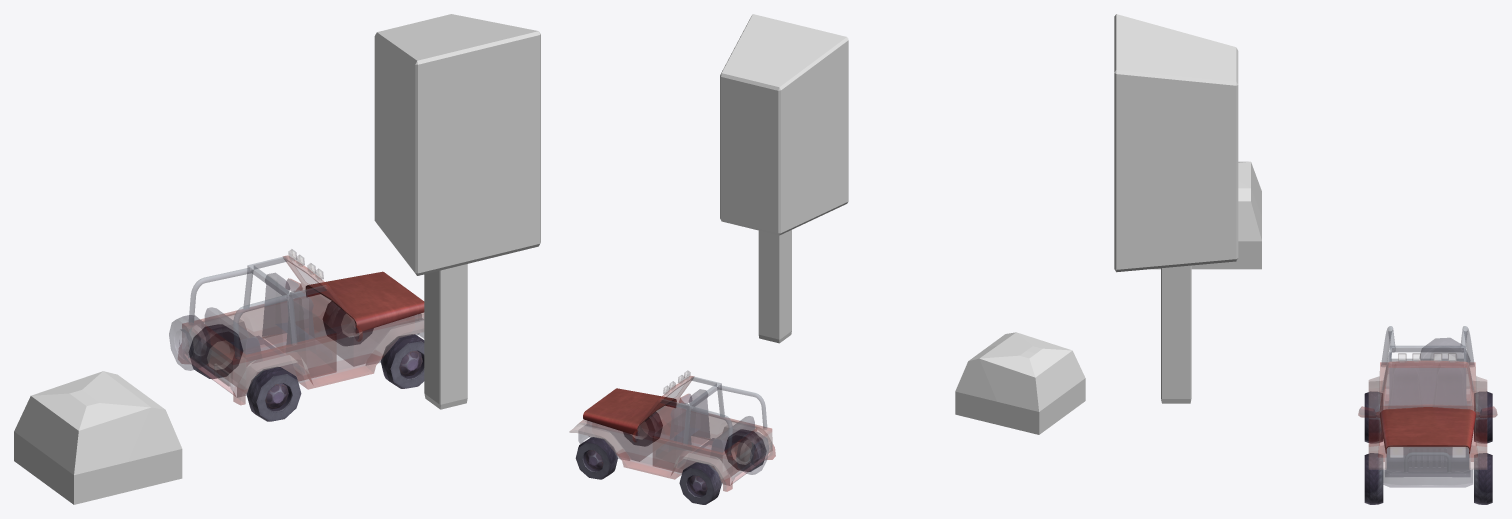
The model's file is game.glb.
The picture shows the model from 3 angles, left to right: view 1: azimuth 30°, elevation 25°; view 2: azimuth 150°, elevation 25°; view 3: azimuth 270°, elevation 25°; orthographic projection. The views are drawn at different scales.
Visible parts, largest first — view 1: tree_main, car_body, rock_main, Wheel_RL, Wheel_RR, Wheel_FL, Wheel_FR; view 2: tree_main, car_body, rock_main, Wheel_RR, Wheel_FR, Wheel_RL, Wheel_FL; view 3: tree_main, car_body, rock_main, Wheel_FL, Wheel_FR, Wheel_RR, Wheel_RL.
Part boxes in pixels (x1,y1,x2,y2): tree_main: [374, 14, 540, 409]; car_body: [169, 249, 424, 404]; rock_main: [14, 371, 182, 504]; Wheel_RL: [246, 366, 301, 421]; Wheel_RR: [189, 324, 242, 379]; Wheel_FL: [380, 334, 424, 388]; Wheel_FR: [323, 301, 373, 345]; tree_main: [720, 14, 848, 343]; car_body: [569, 370, 775, 491]; rock_main: [955, 332, 1085, 434]; Wheel_RR: [679, 462, 721, 504]; Wheel_FR: [575, 437, 617, 479]; Wheel_RL: [724, 429, 766, 471]; Wheel_FL: [623, 412, 662, 446]; tree_main: [1114, 14, 1238, 403]; car_body: [1358, 326, 1497, 487]; rock_main: [1151, 161, 1261, 269]; Wheel_FL: [1364, 453, 1383, 504]; Wheel_FR: [1474, 453, 1492, 504]; Wheel_RR: [1474, 391, 1492, 443]; Wheel_RL: [1364, 391, 1383, 443].
Size of what is drawn, in the model's own units: 6.11 by 5.48 by 4.44.
Materials: 3 (3 with a texture image).
